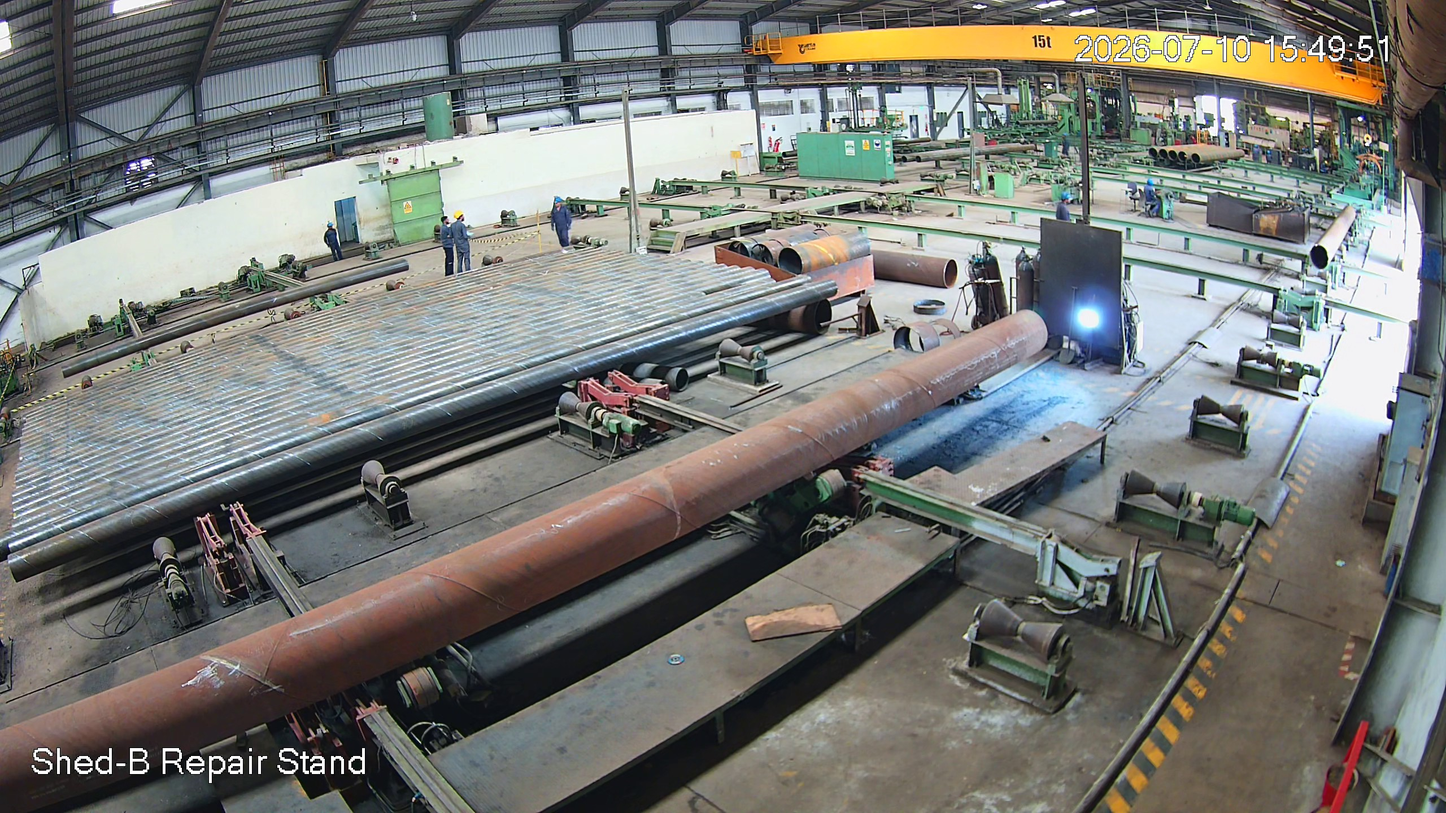Helmet: (551, 194, 569, 214), (454, 209, 471, 227), (326, 219, 335, 233)
Person: (452, 212, 474, 273), (549, 196, 572, 251), (438, 215, 458, 270), (324, 223, 345, 262)
